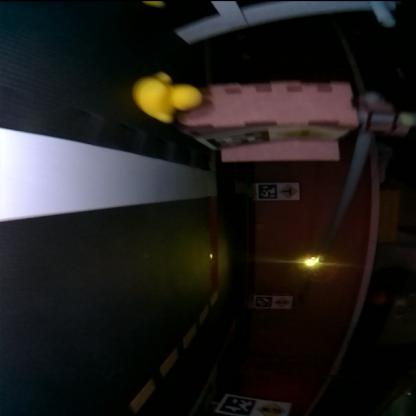Duckie: (134, 74, 202, 122)
Intersection sign: (281, 184, 299, 198)
QR code: (207, 129, 271, 150), (219, 394, 256, 415), (258, 185, 279, 199), (256, 296, 272, 308)
Signal sign: (256, 401, 287, 415), (275, 297, 291, 308)
Traffic light: (306, 256, 323, 266)
